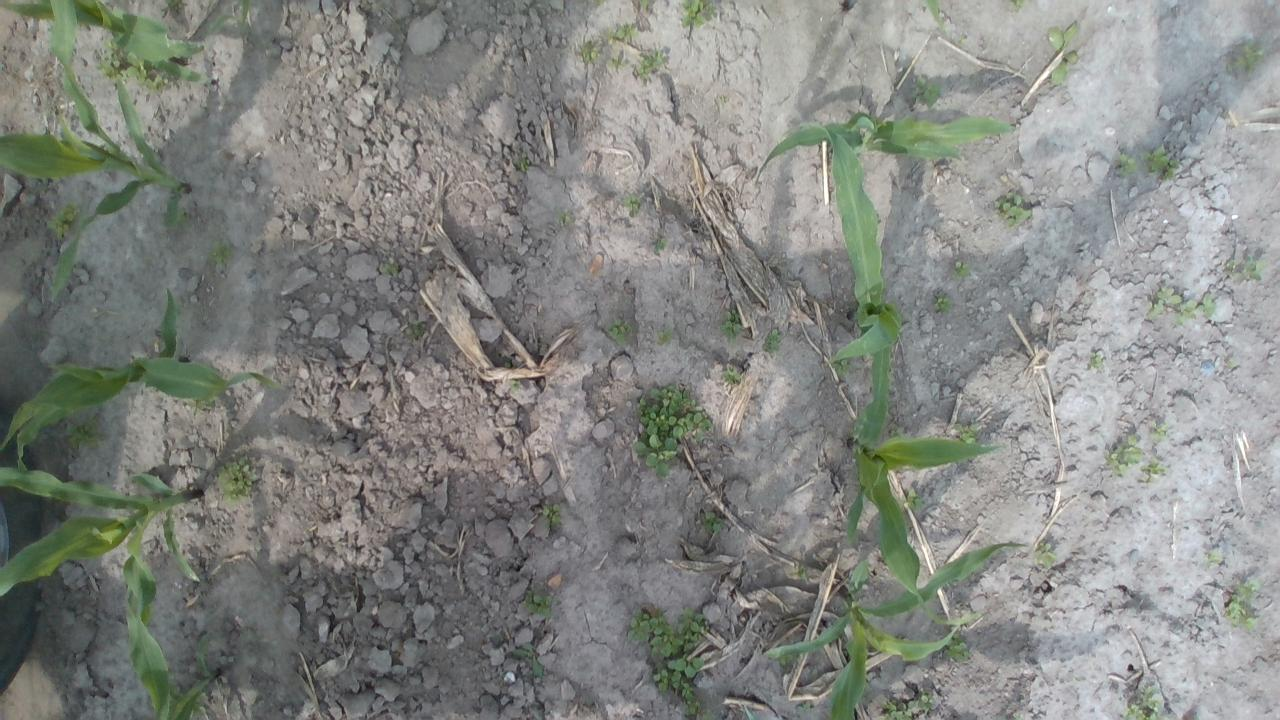Maize: (0, 0, 193, 307), (0, 466, 205, 720), (843, 310, 1006, 628), (0, 286, 290, 459), (762, 542, 1030, 720), (799, 120, 895, 444), (752, 111, 1026, 190), (0, 0, 208, 87), (121, 600, 222, 720), (923, 0, 952, 33), (842, 0, 862, 14)
Weeds: (629, 607, 714, 720), (633, 386, 715, 478), (98, 41, 168, 90), (1148, 281, 1216, 325), (217, 456, 260, 503), (1049, 21, 1079, 86), (1102, 433, 1146, 475), (1226, 577, 1258, 629), (1142, 144, 1182, 181), (881, 694, 936, 720), (1123, 683, 1161, 720), (1228, 37, 1264, 76), (46, 202, 82, 240), (994, 193, 1032, 226), (910, 75, 944, 111), (512, 642, 546, 678), (65, 420, 105, 450), (680, 0, 719, 29), (1226, 258, 1270, 281), (635, 50, 666, 80), (603, 318, 634, 348), (522, 590, 552, 616), (604, 22, 638, 44), (953, 422, 985, 445), (718, 310, 742, 340), (698, 510, 724, 536), (209, 242, 235, 266), (1034, 542, 1058, 568), (944, 638, 970, 662), (1141, 457, 1165, 480), (1114, 154, 1137, 178), (898, 488, 924, 509), (579, 42, 603, 61), (379, 261, 401, 280), (540, 504, 562, 523), (932, 294, 951, 316), (405, 319, 424, 339), (1150, 420, 1170, 439), (621, 196, 640, 216), (656, 329, 676, 347), (950, 261, 970, 279), (764, 329, 780, 351), (791, 560, 807, 581), (514, 152, 530, 173), (722, 369, 742, 384), (1089, 352, 1105, 370), (162, 0, 186, 12), (832, 359, 853, 372), (652, 238, 668, 255), (606, 55, 626, 67), (558, 209, 573, 225), (1208, 551, 1222, 567), (1006, 0, 1028, 10), (795, 700, 813, 712), (510, 378, 525, 391), (638, 0, 652, 10), (780, 655, 795, 664), (504, 362, 511, 369)
